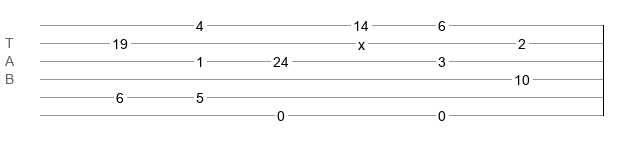0: (277, 108, 285, 118), (438, 108, 446, 118)
1: (196, 54, 204, 64)
10: (514, 72, 530, 82)
14: (353, 18, 369, 28)
19: (112, 36, 128, 46)
2: (518, 36, 526, 46)
24: (273, 54, 289, 64)
3: (438, 54, 446, 64)
4: (196, 18, 204, 28)
5: (196, 90, 204, 100)
6: (116, 90, 124, 100), (438, 18, 446, 28)
x: (358, 37, 365, 45)
